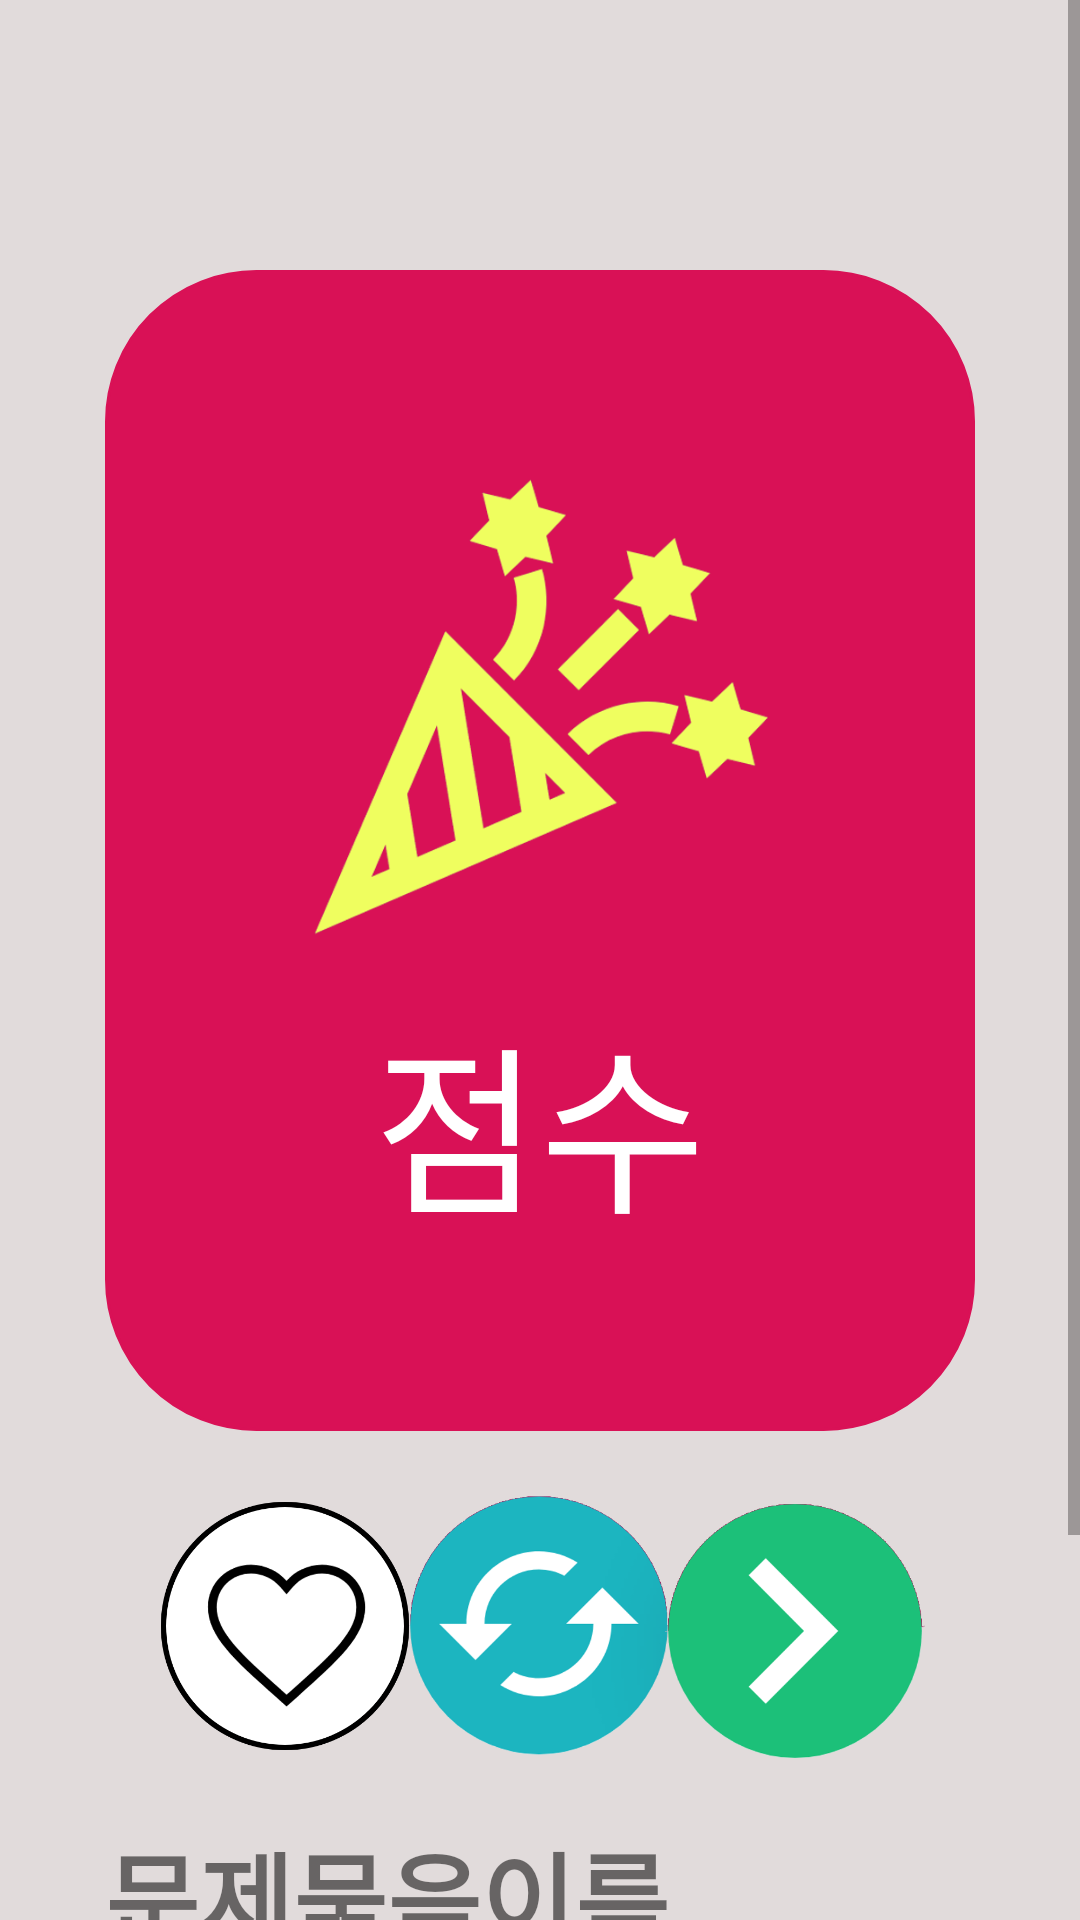

Screen size 1080px x 1920px. Icon name, then its center in pixels as (x,y):
retry: (540,1625)
